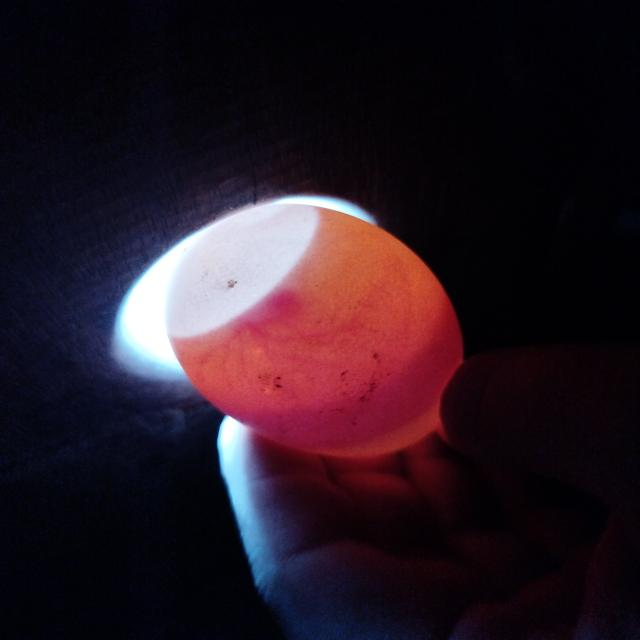Camara de Ar: (165, 207, 320, 340)
Gema Quebrada: (233, 311, 464, 448)
